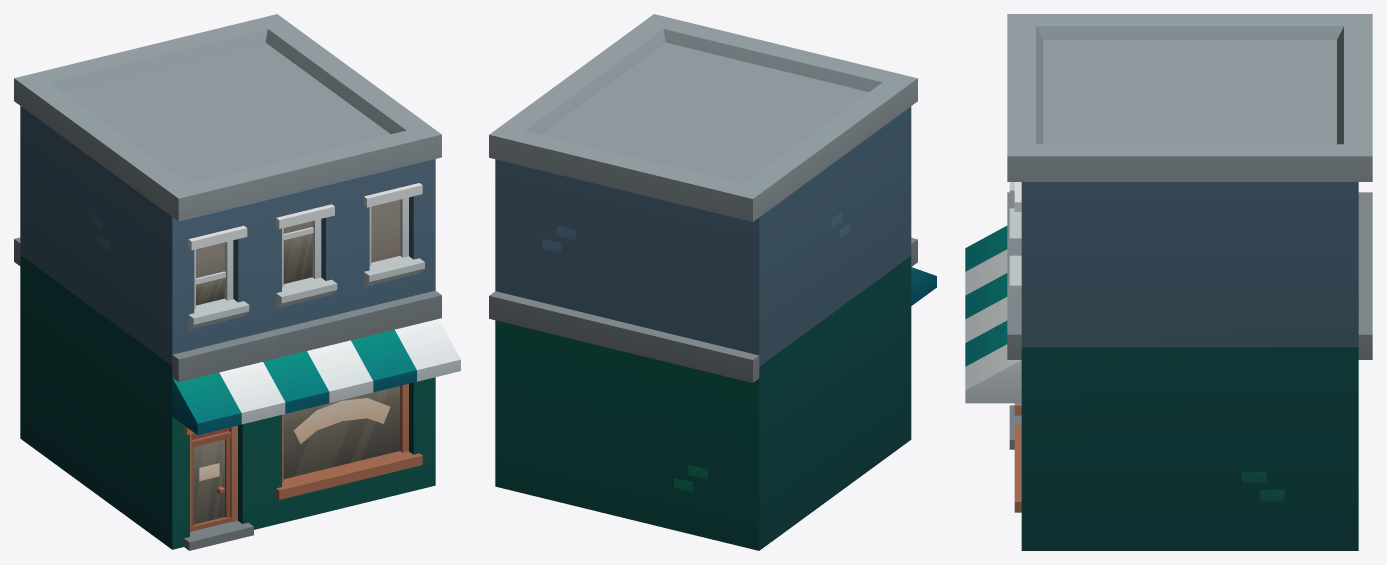
Rendered from kk_bld_A.glb.
3 renders of one model, left to right at view 1: azimuth 30°, elevation 25°; view 2: azimuth 150°, elevation 25°; view 3: azimuth 270°, elevation 25°, orthographic. The views are drawn at different scales.
Parts seen in each view (by area): view 1: building_A_withoutBase; view 2: building_A_withoutBase; view 3: building_A_withoutBase.
Boxes of the visible parts, left/top/right/bottom form: building_A_withoutBase: left=14, top=14, right=460, bottom=550; building_A_withoutBase: left=489, top=14, right=936, bottom=550; building_A_withoutBase: left=965, top=14, right=1372, bottom=550.
Bounding box in the file's own units: 1.21 × 1.55 × 1.45.
Materials: 1 (1 with a texture image).
